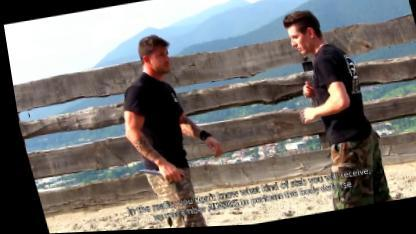knife: (128, 161, 180, 189)
